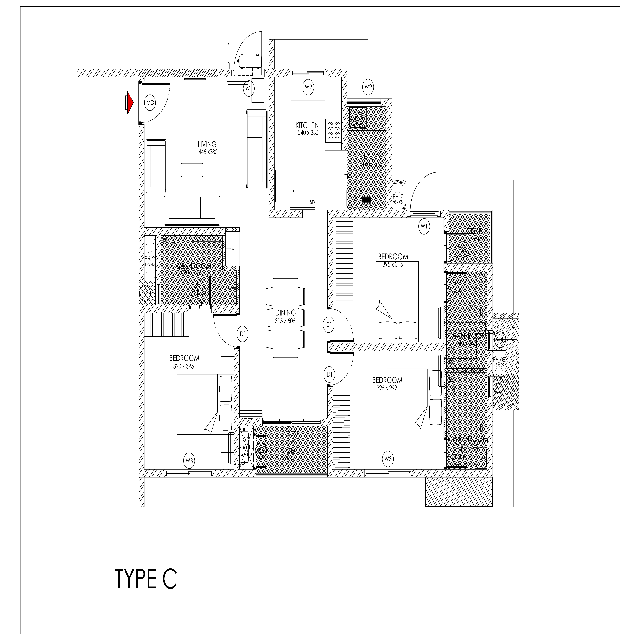door: (140, 80, 172, 127), (327, 349, 355, 390), (213, 312, 239, 350), (328, 307, 354, 345), (445, 271, 467, 307), (446, 232, 468, 265), (190, 275, 211, 307), (445, 438, 467, 468)
